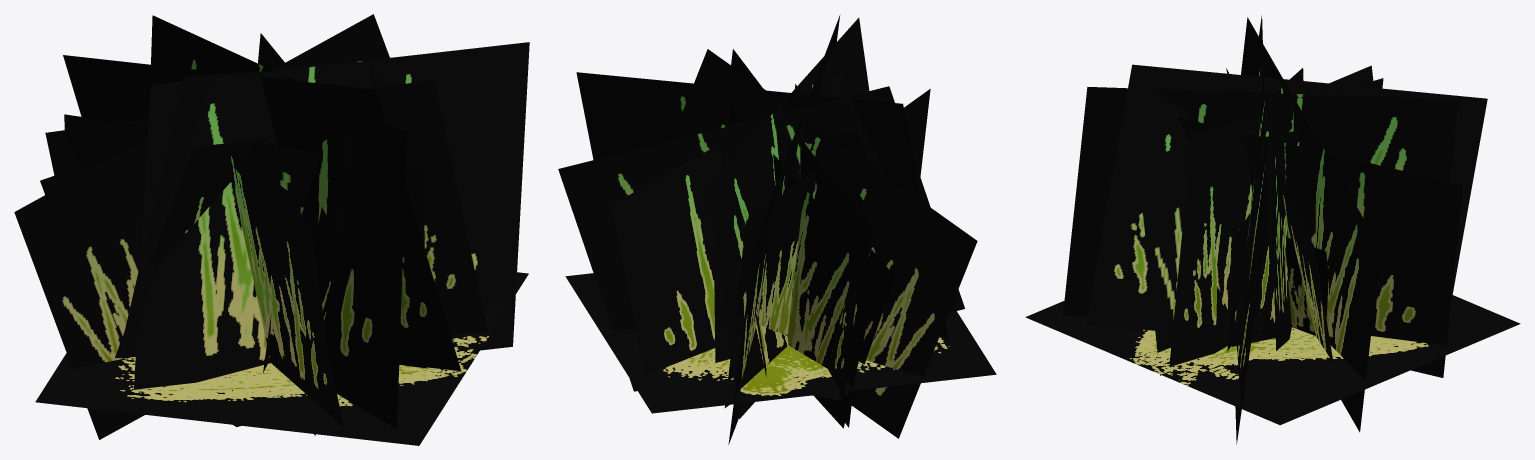
Rendered from grass29.fbx.
The picture shows the model from 3 angles, left to right: view 1: azimuth 30°, elevation 25°; view 2: azimuth 150°, elevation 25°; view 3: azimuth 270°, elevation 25°; orthographic projection. The views are drawn at different scales.
Visible parts, largest first — view 1: grass1_BAKED; view 2: grass1_BAKED; view 3: grass1_BAKED.
Part boxes in pixels (<box>): grass1_BAKED: <box>14,14,529,445</box>; grass1_BAKED: <box>558,14,996,444</box>; grass1_BAKED: <box>1025,15,1520,444</box>.
Size of the model in its own units: 48.93 by 48.94 by 35.79.
